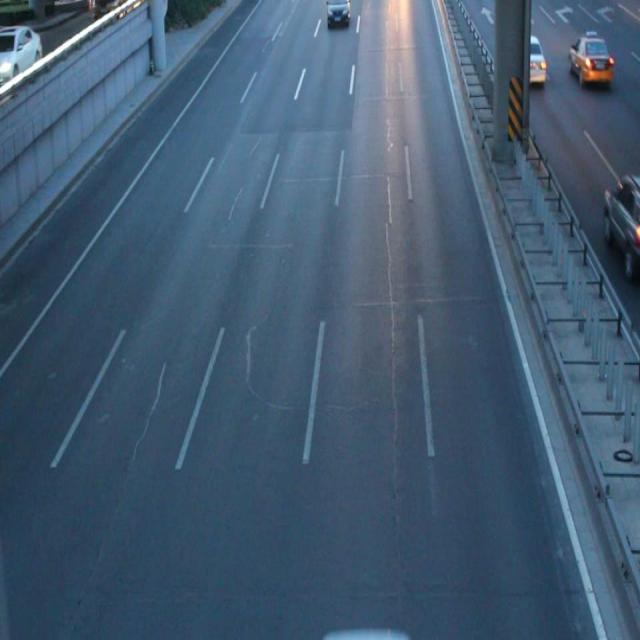car: (602, 170, 640, 272), (567, 32, 611, 82), (514, 37, 545, 84), (325, 1, 350, 27)
truck: (322, 629, 409, 640)
